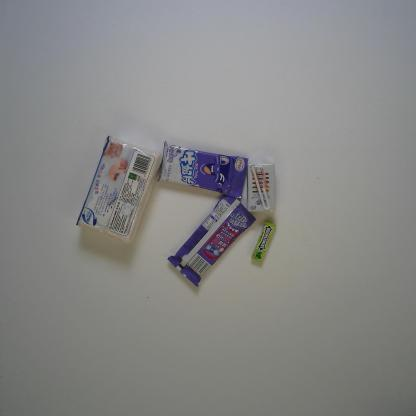Candy: (166, 192, 256, 290), (157, 139, 250, 200)
Gum: (249, 219, 278, 265)
Milk: (245, 162, 275, 215)
Tissue: (70, 134, 166, 245)
